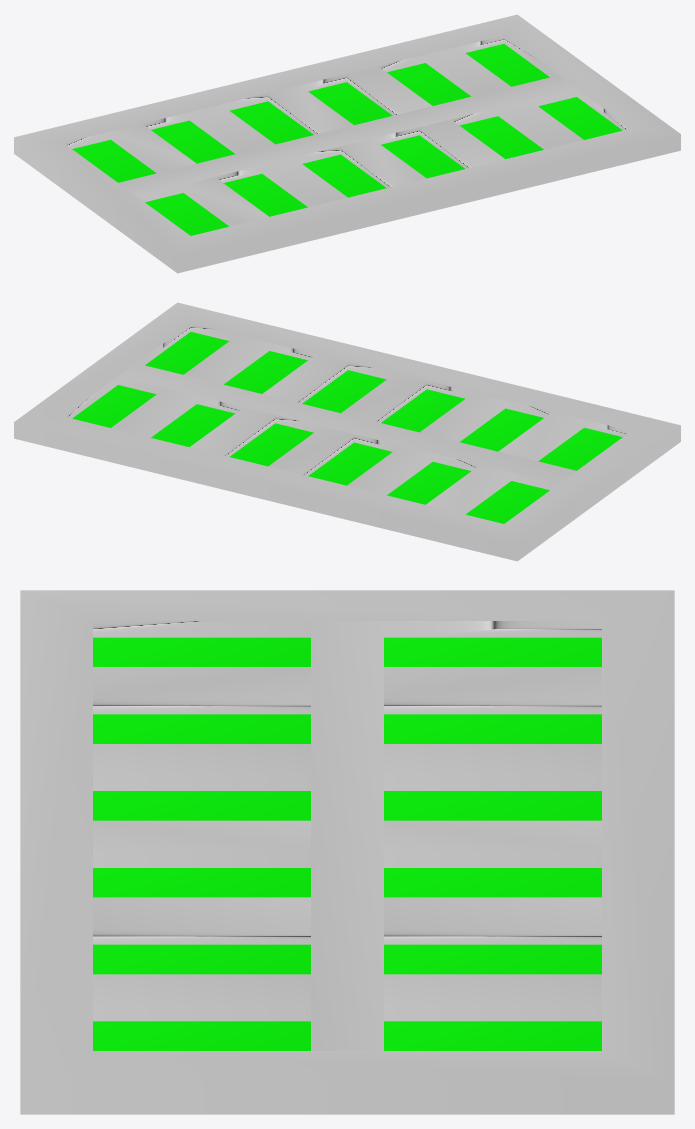
The model's file is kitB.fbx.
The picture shows the model from 3 angles, top to bottom: view 1: azimuth 30°, elevation 25°; view 2: azimuth 150°, elevation 25°; view 3: azimuth 270°, elevation 25°; orthographic projection. The views are drawn at different scales.
Visible parts, largest first — view 1: Cube; view 2: Cube; view 3: Cube.
Boxes of the visible parts, x1,y1,x2,y2 form: Cube: [14, 14, 680, 273]; Cube: [14, 302, 680, 561]; Cube: [20, 590, 674, 1114].
Bounding box in the file's own units: 203 × 6.35 × 114.
